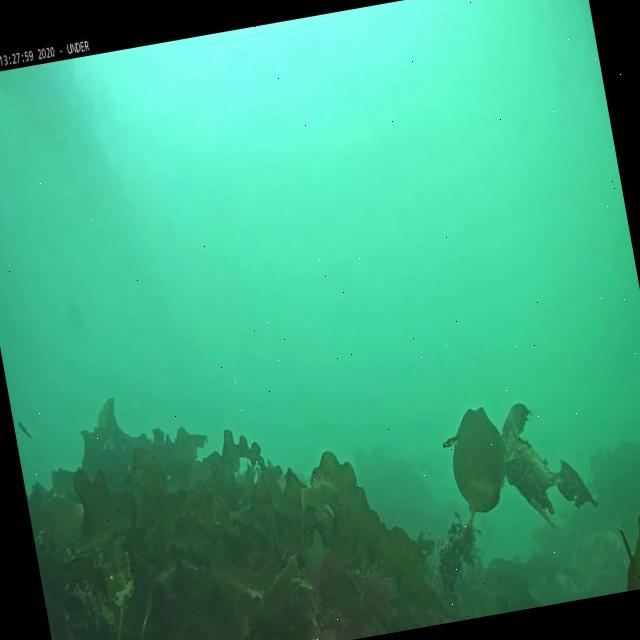fish: (441, 432, 461, 448), (17, 418, 34, 436)
